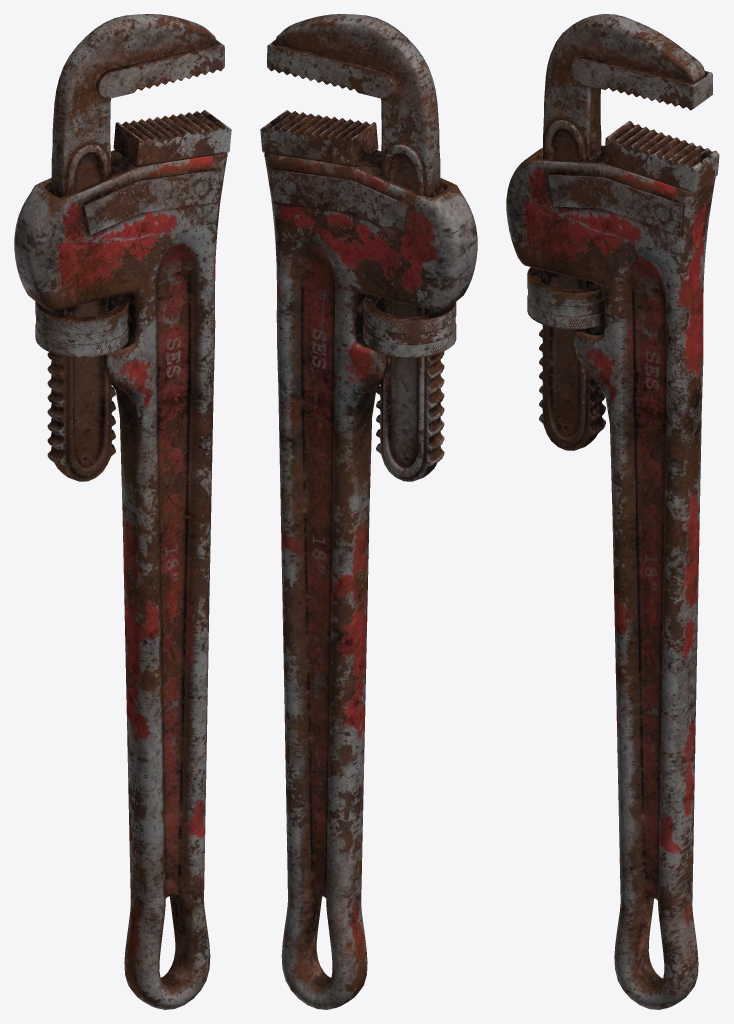
The model's file is pipe_wrench.glb.
The picture shows the model from 3 angles, left to right: view 1: azimuth 30°, elevation 25°; view 2: azimuth 150°, elevation 25°; view 3: azimuth 330°, elevation 25°; orthographic projection.
Parts seen in each view (by area): view 1: pipe_wrench; view 2: pipe_wrench; view 3: pipe_wrench.
Boxes of the visible parts, bbox=[...] form: pipe_wrench: bbox=[14, 14, 231, 1009]; pipe_wrench: bbox=[260, 14, 477, 1009]; pipe_wrench: bbox=[506, 14, 719, 1009].
Bounding box in the file's own units: 0.0839 × 0.4047 × 0.0343.
1 material, 1 textured.
